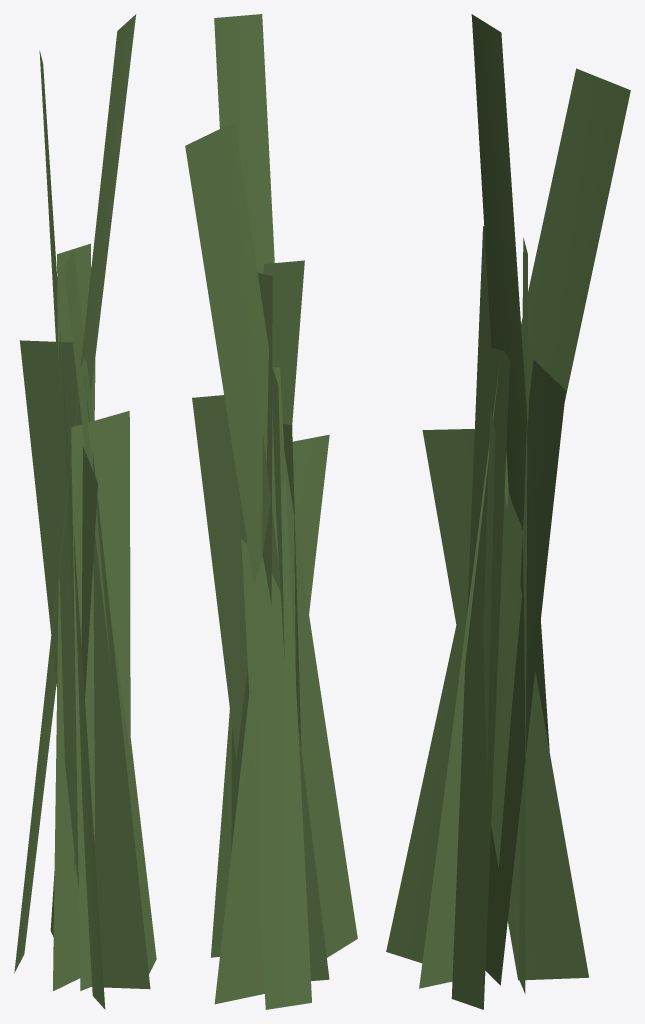
File: plant_grassclump_low.glb
The picture shows the model from 3 angles, left to right: view 1: azimuth 30°, elevation 25°; view 2: azimuth 150°, elevation 25°; view 3: azimuth 270°, elevation 25°; orthographic projection. The views are drawn at different scales.
Size of the model in its own units: 0.107 by 0.7996 by 0.1811.
